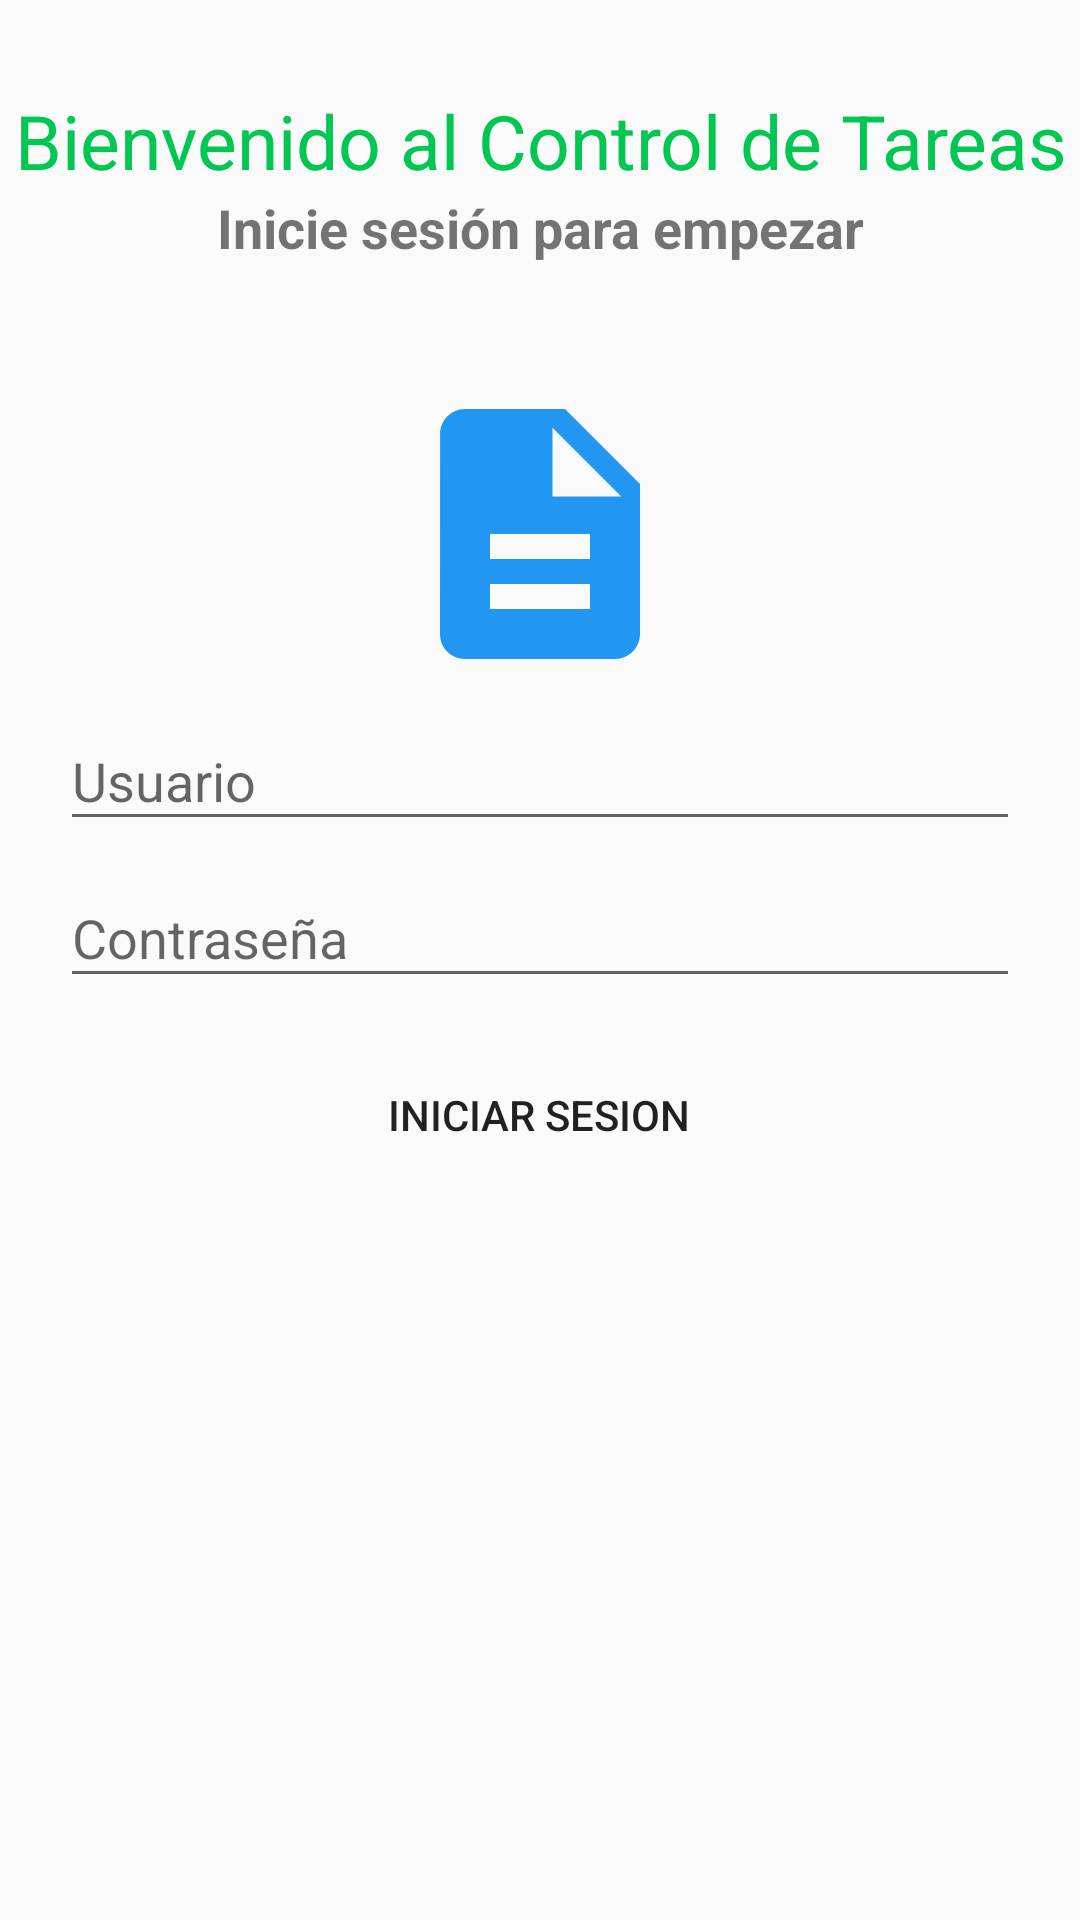

Named icons in this screenshot (1080 x 1920) and their bounding boxes, region(x1, y1, x2, y2):
cuaderno: region(440, 409, 640, 659)
